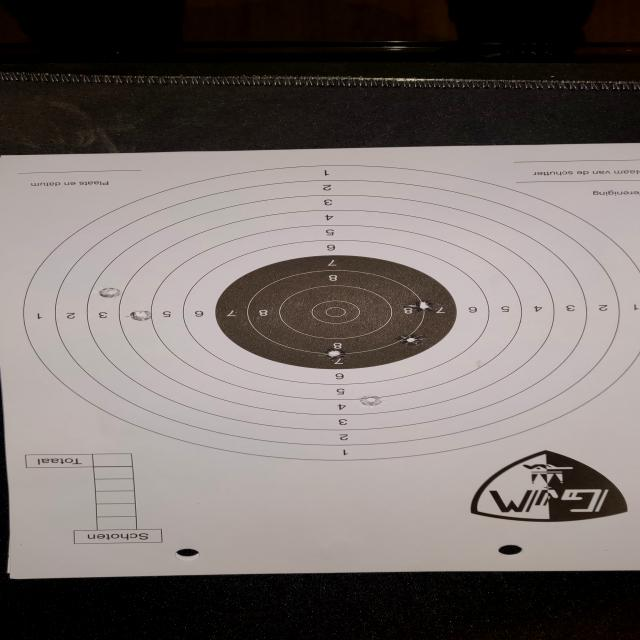3: (92, 287, 122, 298)
4: (130, 311, 152, 321)
5: (354, 394, 388, 408)
8: (405, 300, 440, 313), (317, 349, 349, 360), (393, 335, 427, 345)
Target: (22, 164, 640, 462)
black_contour: (213, 255, 458, 369)
